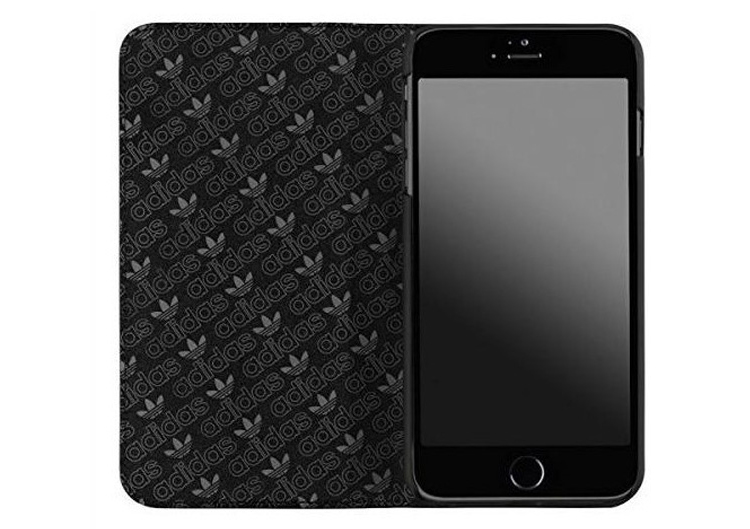Adidas: (211, 269, 307, 346)
